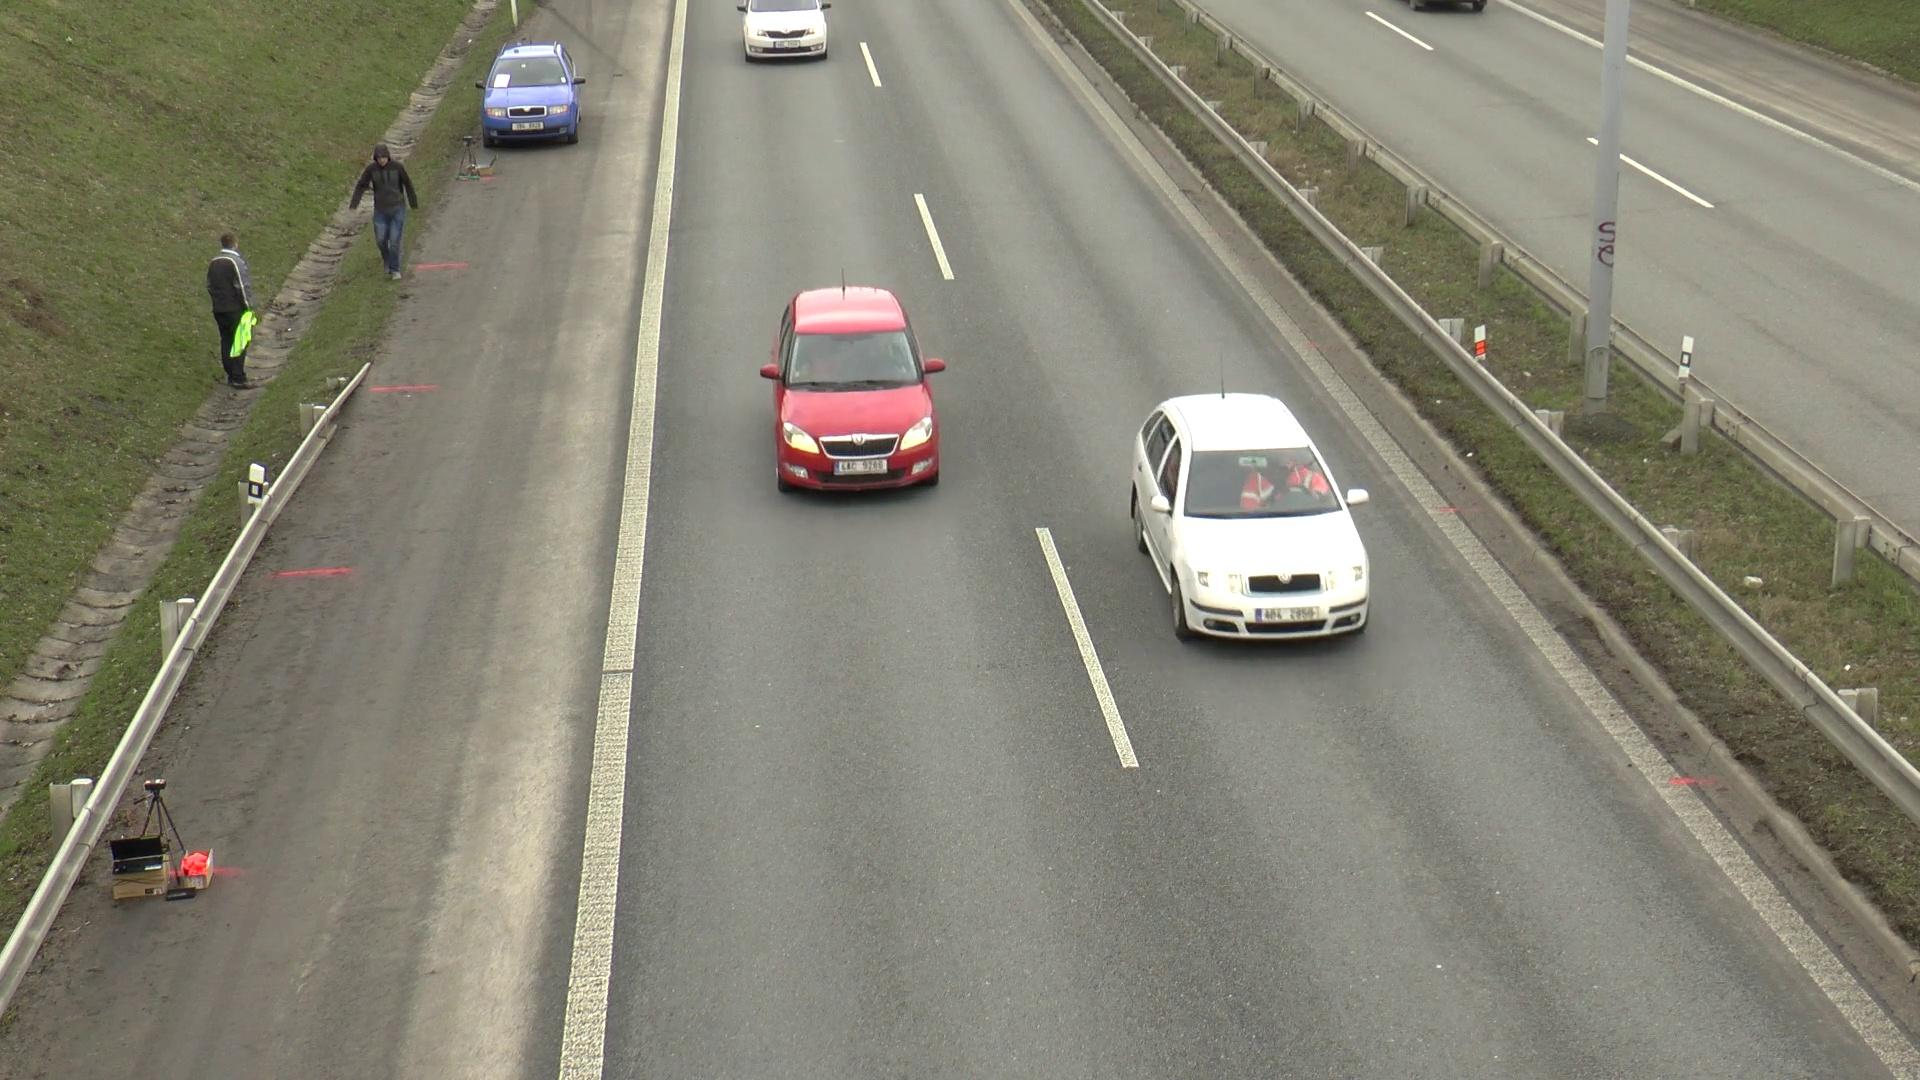Car: (1120, 396, 1390, 659), (760, 270, 942, 508), (488, 30, 582, 161), (732, 2, 843, 75)
Human: (188, 222, 274, 395), (346, 140, 430, 292)
